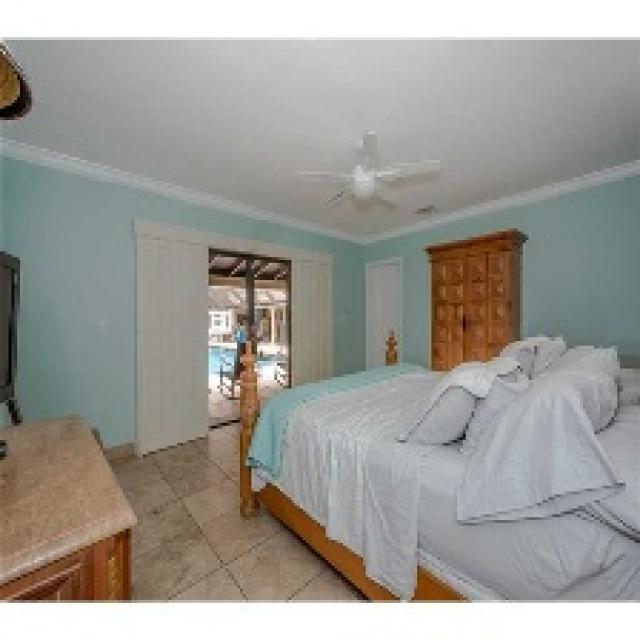Bed: (237, 331, 637, 600)
